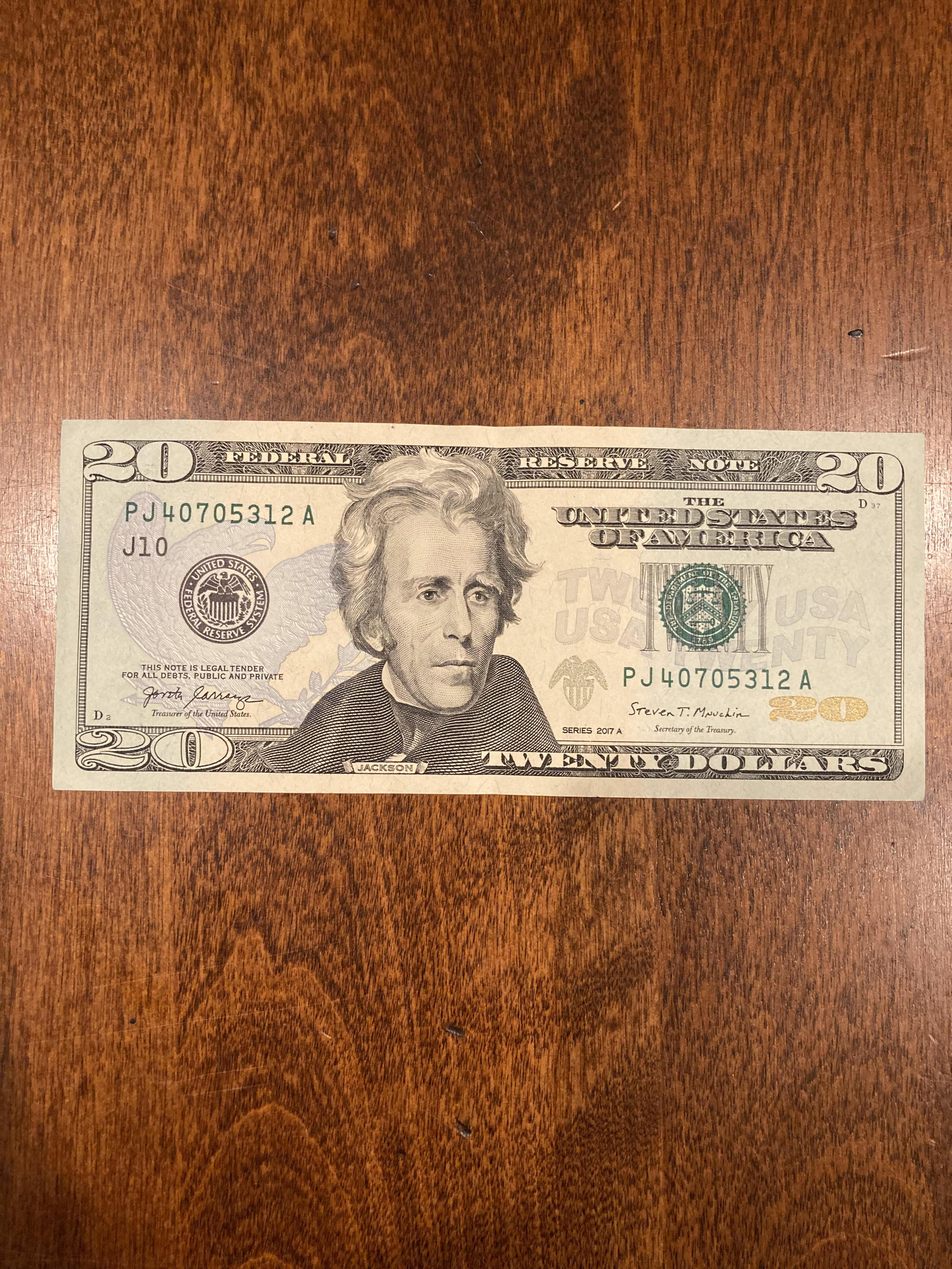twenty-front: (52, 420, 926, 804)
